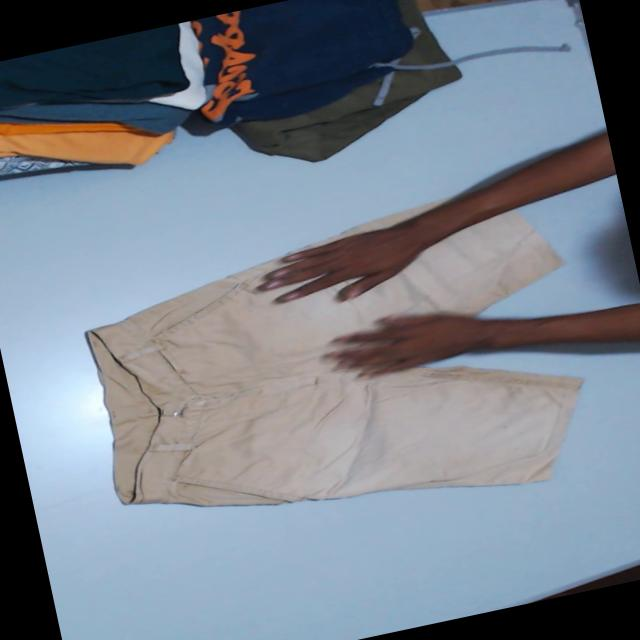new-garment: (87, 211, 582, 506), (304, 199, 444, 247)
